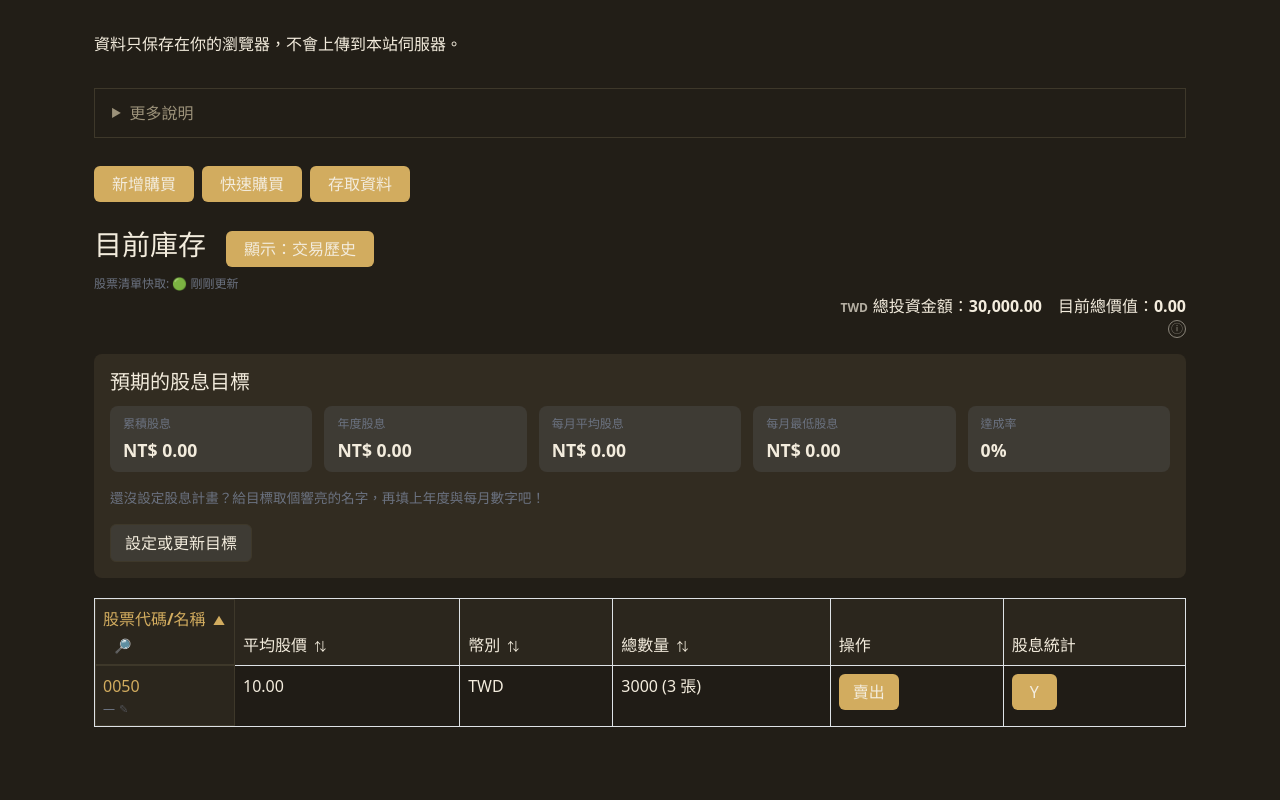
it: InventoryTab interactions › transaction history table defaults to date descending
Click the button "顯示：交易歷史".
click(300, 249)  # box [226, 231, 374, 267]
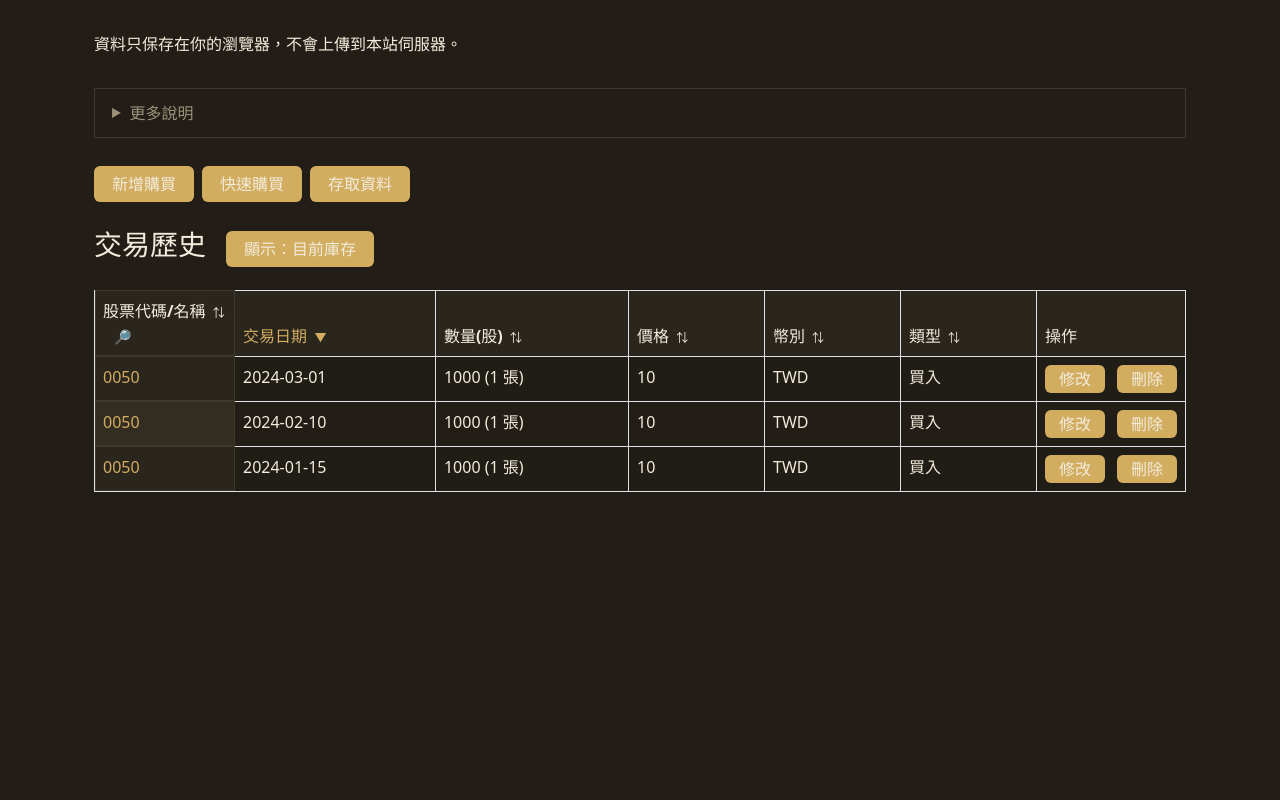
Check: the row "0050 2024-03-01 1000 (1 張) 10 TWD 買入 修改 刪除" is shown, box [94, 356, 1186, 401]
Check: the row "0050 2024-02-10 1000 (1 張) 10 TWD 買入 修改 刪除" is shown, box [94, 401, 1186, 446]
Check: the row "0050 2024-01-15 1000 (1 張) 10 TWD 買入 修改 刪除" is shown, box [94, 446, 1186, 491]
